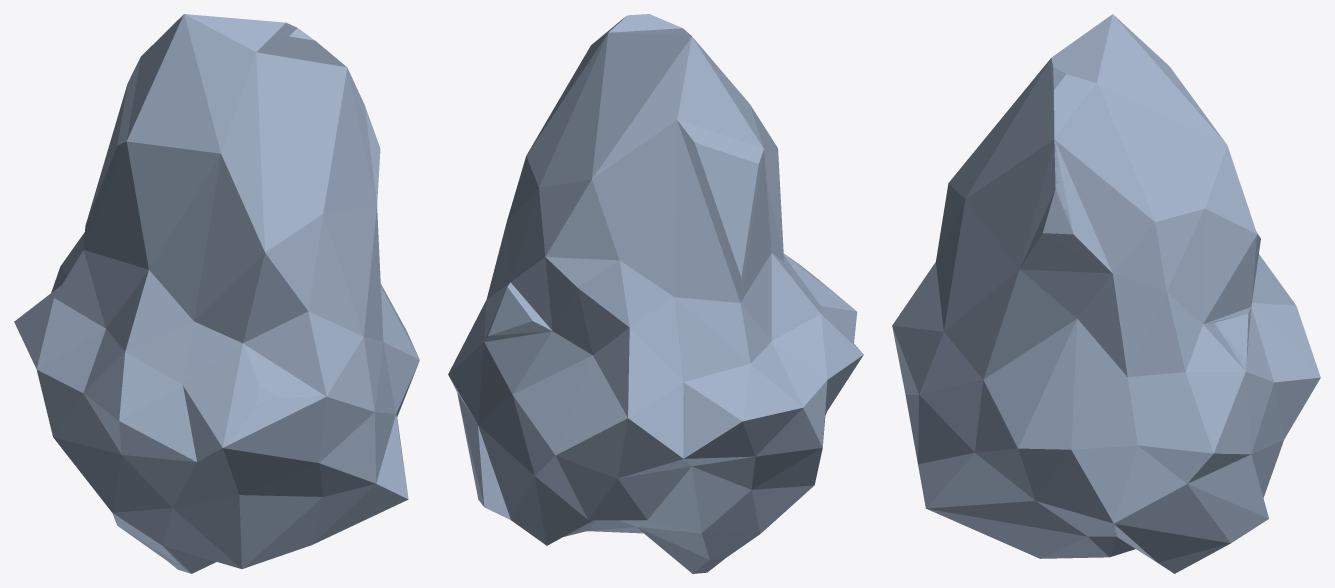
File: CUPIC_ICEBERG.obj
The picture shows the model from 3 angles, left to right: view 1: azimuth 30°, elevation 25°; view 2: azimuth 150°, elevation 25°; view 3: azimuth 270°, elevation 25°; orthographic projection. The views are drawn at different scales.
Size of the model in its own units: 382 by 568 by 412.
1 material, 1 textured.
